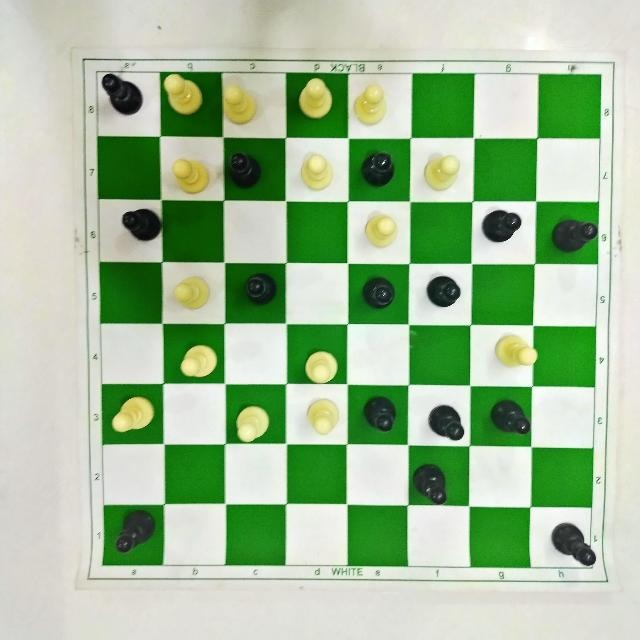black-pawn: (549, 515, 598, 571), (108, 507, 159, 560), (407, 458, 451, 516), (94, 68, 145, 118), (547, 212, 602, 256), (219, 142, 263, 194), (480, 201, 521, 253), (489, 390, 533, 438), (426, 398, 469, 446), (356, 389, 398, 435), (116, 205, 165, 244), (240, 266, 279, 310), (360, 145, 396, 189), (359, 272, 399, 311), (425, 273, 463, 313)
white-pawn: (108, 394, 154, 436), (494, 332, 539, 371), (162, 71, 203, 113), (170, 153, 211, 195), (296, 76, 335, 120), (177, 342, 219, 381), (352, 84, 390, 127), (220, 83, 259, 124), (421, 152, 460, 192), (234, 404, 270, 446), (302, 348, 341, 386), (300, 151, 336, 192), (172, 273, 211, 310), (306, 397, 340, 438), (363, 214, 399, 250)
